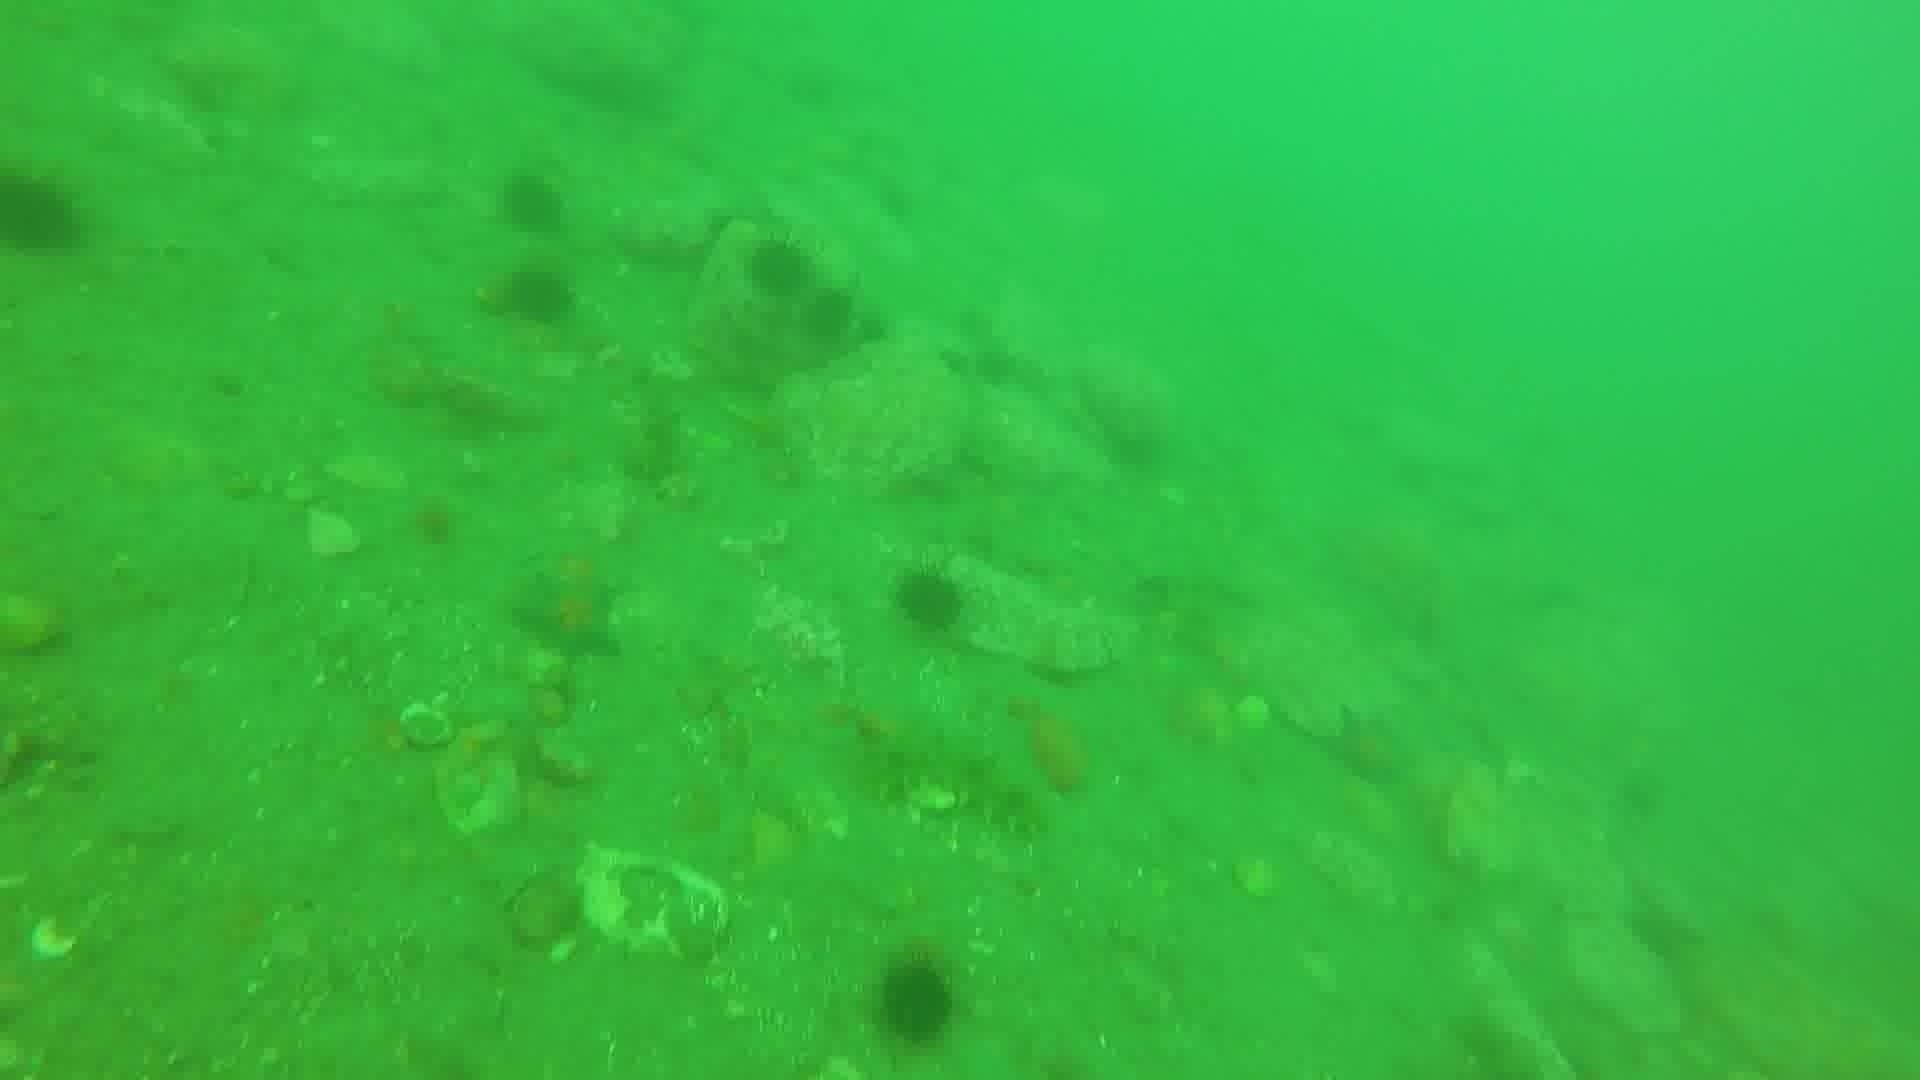echinus: (870, 955, 961, 1048), (1, 164, 87, 260), (889, 563, 972, 638), (493, 262, 579, 331), (495, 167, 571, 239), (740, 233, 818, 303), (795, 285, 861, 349), (407, 496, 465, 551)
holothurian: (848, 720, 1055, 837)
starfish: (508, 566, 628, 665), (1324, 704, 1420, 793)
